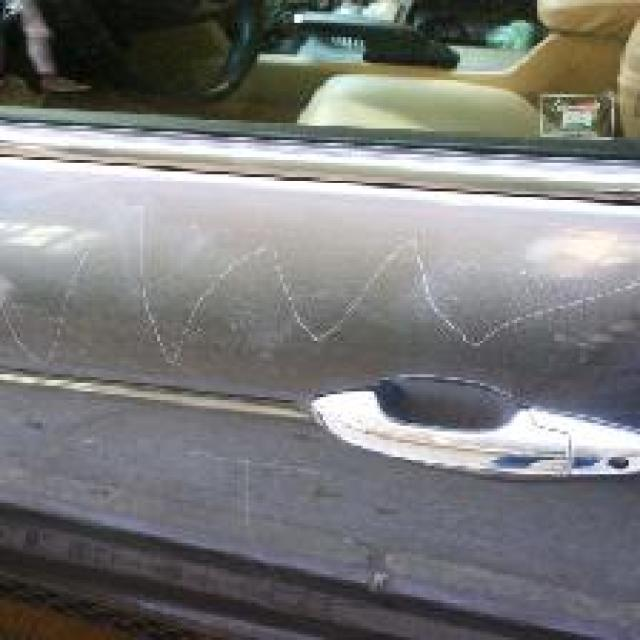door_scratch_moderate: (3, 189, 617, 386)
